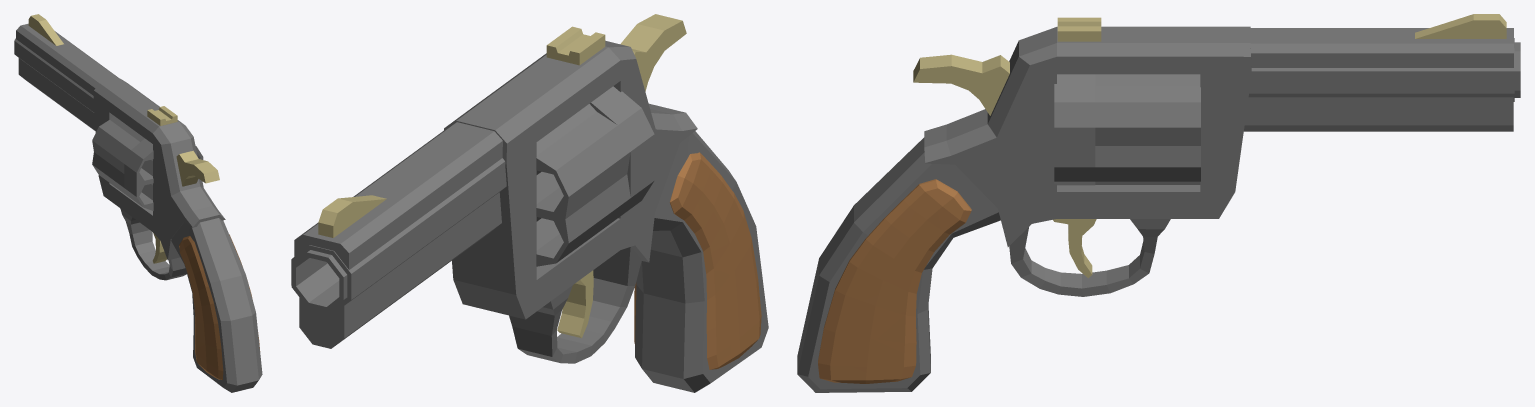
File: rvolver-b.glb
3 views of the same model, side by side, from view 1: azimuth 30°, elevation 25°; view 2: azimuth 150°, elevation 25°; view 3: azimuth 270°, elevation 25° (orthographic). The views are drawn at different scales.
Visible parts, largest first — view 1: Revolver; view 2: Revolver; view 3: Revolver.
Part boxes in pixels (x1=…): Revolver: x1=14, y1=14, x2=262, y2=392; Revolver: x1=291, y1=14, x2=768, y2=392; Revolver: x1=797, y1=14, x2=1520, y2=392.
Bounding box in the file's own units: 79.48 × 255 × 455.
